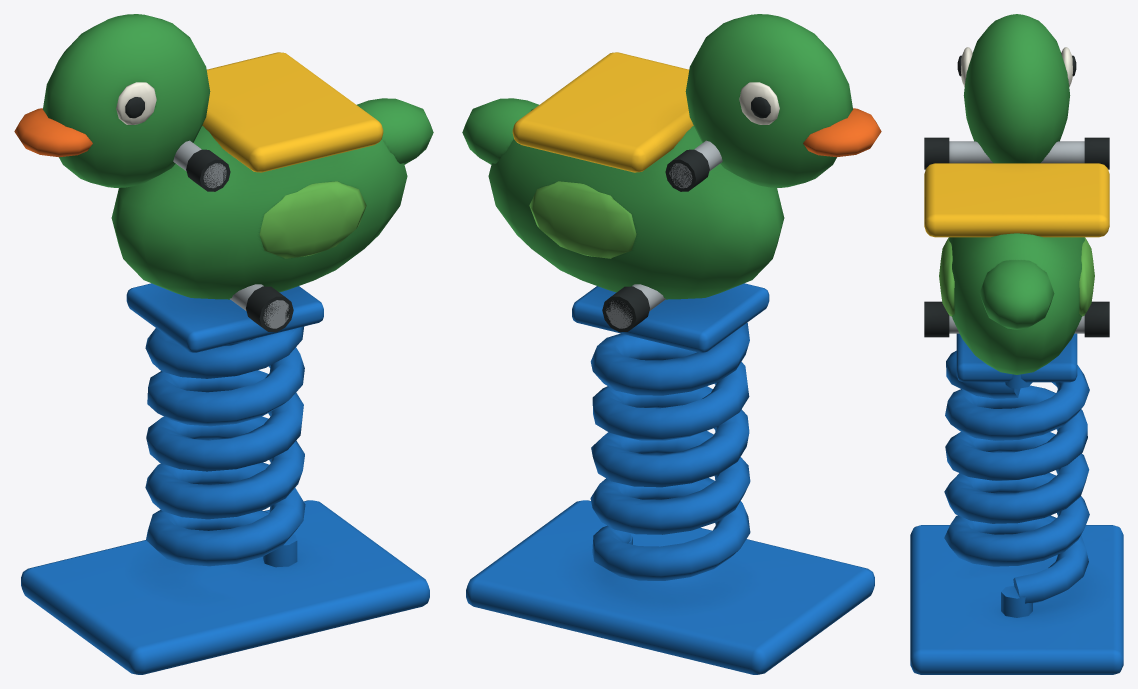
The model's file is spring-rider.fbx.
The picture shows the model from 3 angles, left to right: view 1: azimuth 30°, elevation 25°; view 2: azimuth 150°, elevation 25°; view 3: azimuth 270°, elevation 25°; orthographic projection. The views are drawn at different scales.
Visible parts, largest first — view 1: spring-rider; view 2: spring-rider; view 3: spring-rider.
Part boxes in pixels (bbox=[...]): spring-rider: bbox=[14, 14, 433, 674]; spring-rider: bbox=[462, 14, 881, 674]; spring-rider: bbox=[910, 14, 1123, 674].
Size of the model in its own units: 12000 by 17000 by 6000.
1 material, 1 textured.
